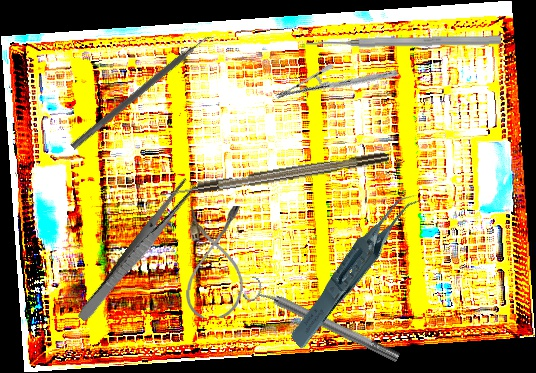Cannula: (186, 205, 244, 319)
Dressing Forceps: (75, 176, 198, 326)
Fixation Ring: (241, 273, 404, 372)
Hook Surgical: (156, 151, 391, 201)
Needle Holder: (273, 24, 400, 145)
Pusher: (305, 33, 502, 50)
Spatula Surgical: (70, 29, 217, 156)
Tissue Forceps: (265, 189, 449, 351)
